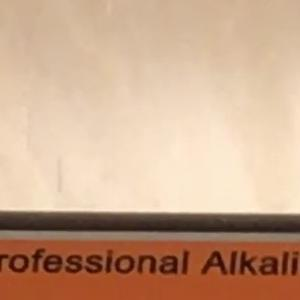ALK: (191, 241, 259, 285)
